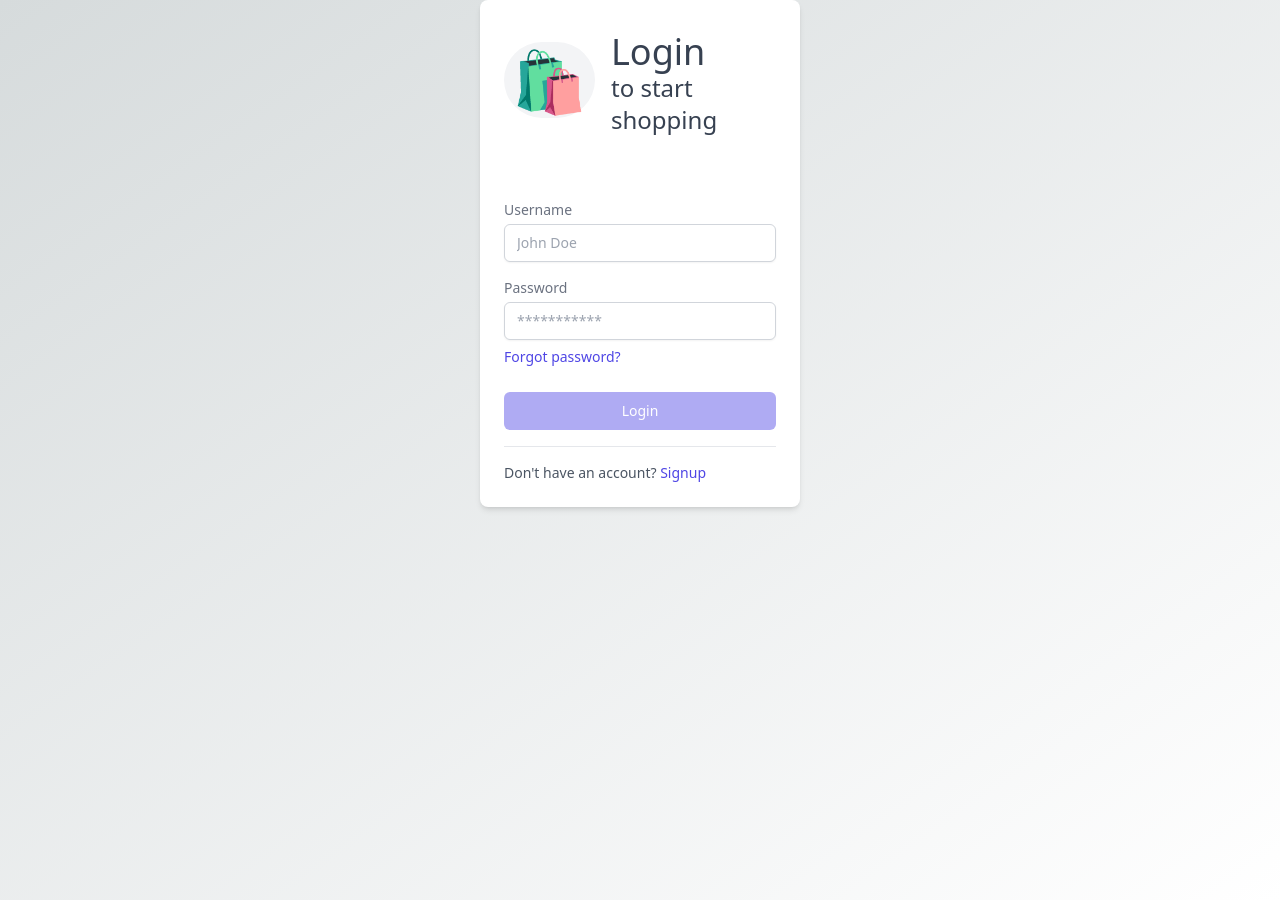
Test: LoginPage › renders banner if username or password is invalid
fill in the form
In the field with test id "username": {"x": 640, "y": 243} [504, 224, 776, 262], type "john"
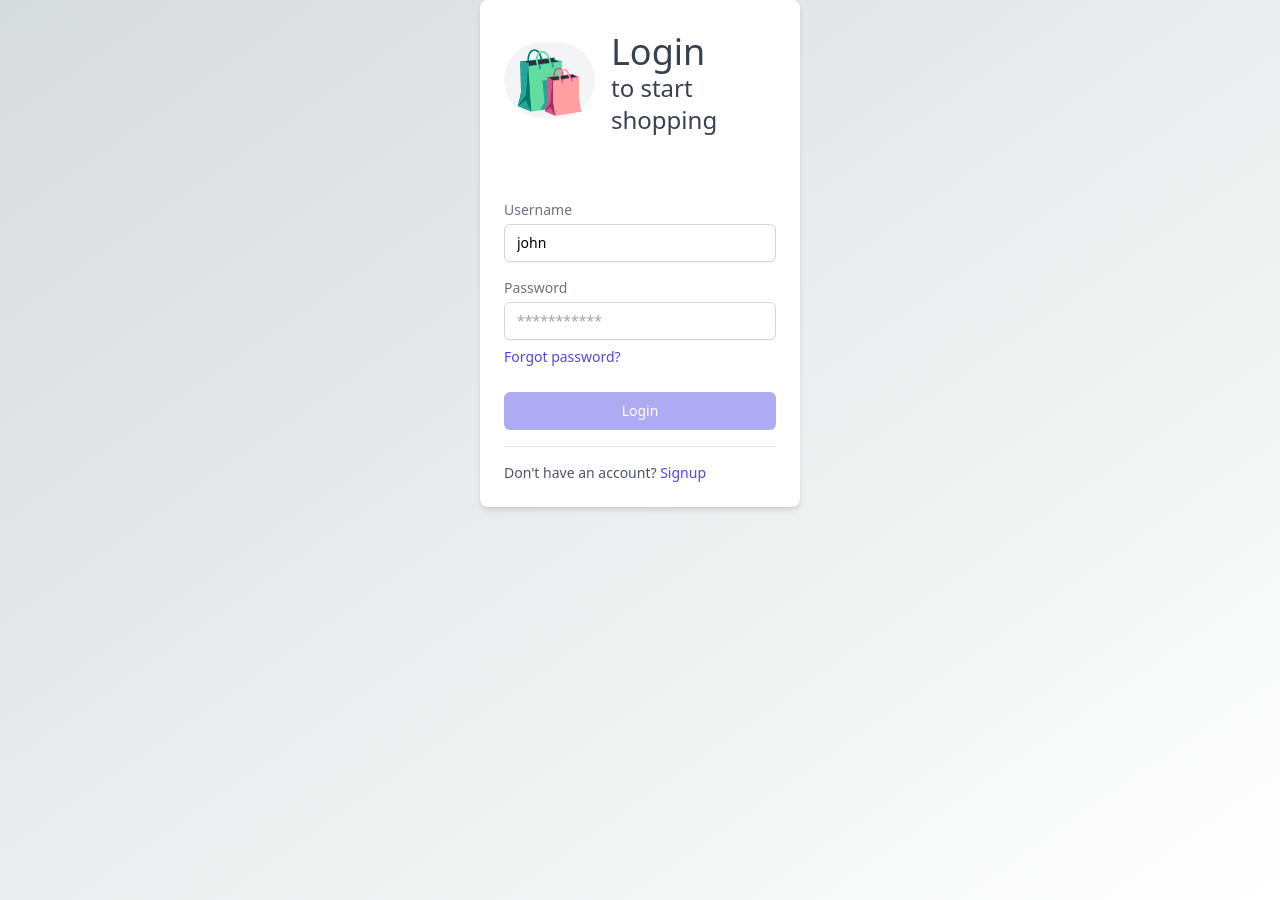
In the password field with test id "password": {"x": 640, "y": 321} [504, 302, 776, 340], type "/"
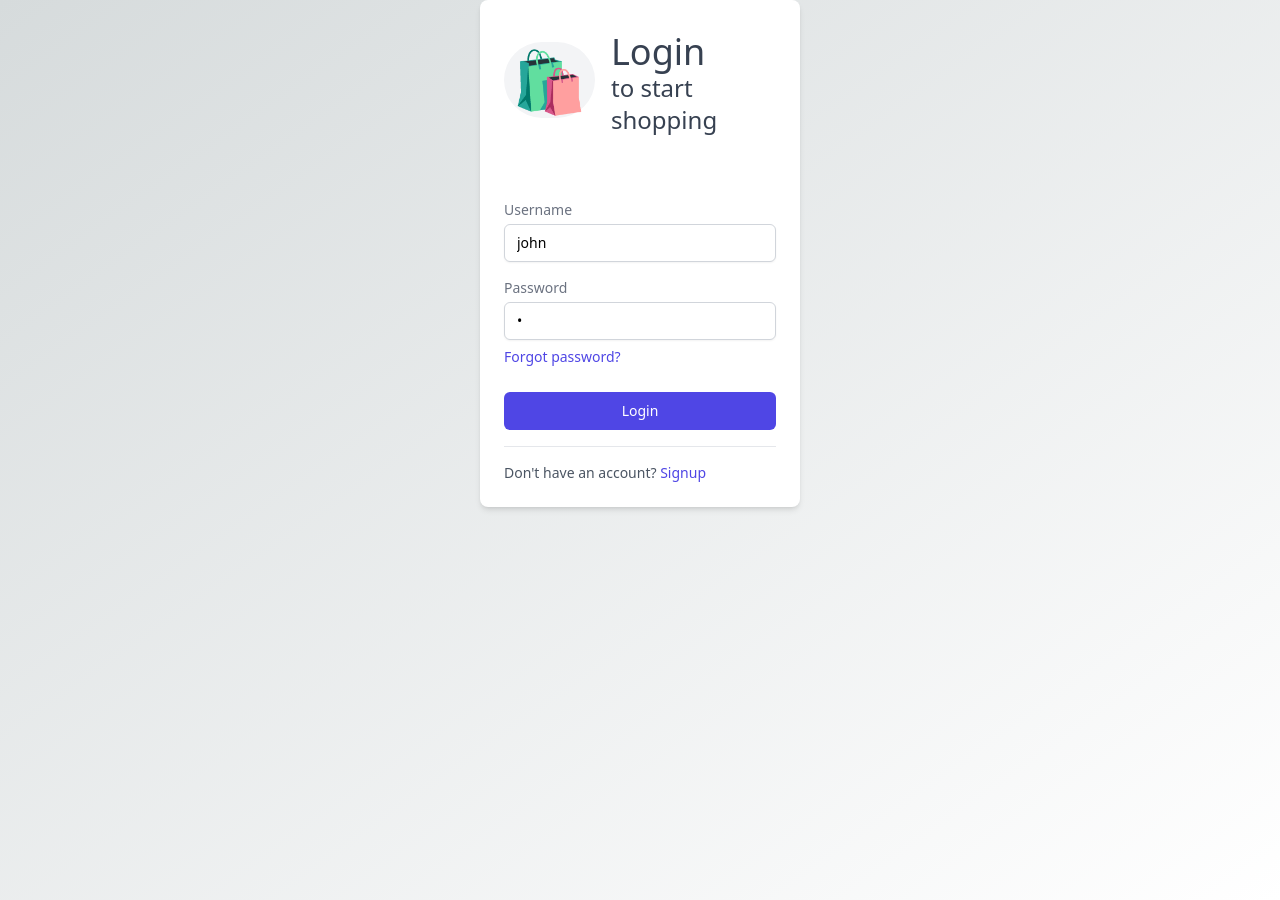
submit the form
Click the button: {"x": 640, "y": 411} [504, 392, 776, 430]
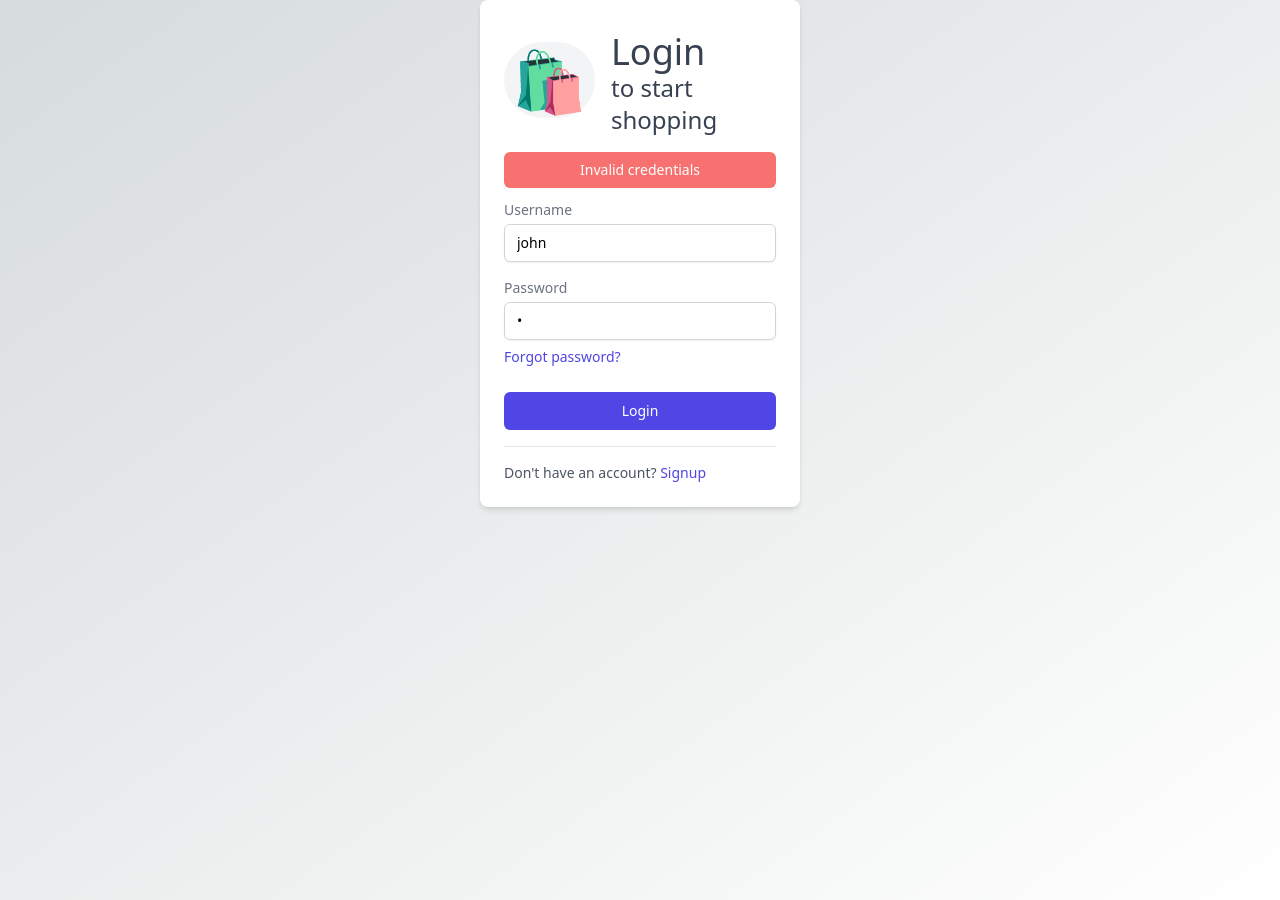
Result: the header reads "Invalid credentials" at [580, 160, 700, 179]
